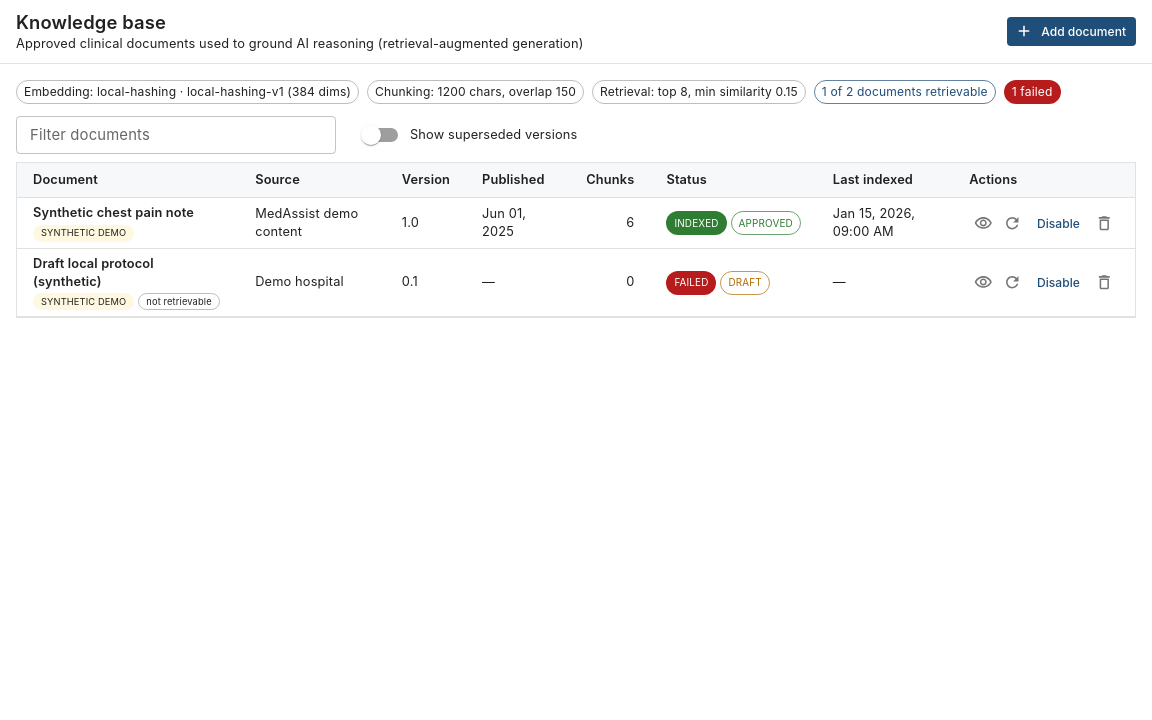
Test case: KnowledgeBasePage › disables and deletes documents through the admin API
Click the button "Disable" in the row of "Synthetic chest pain note" at (1058, 223), box [1026,208,1090,238]
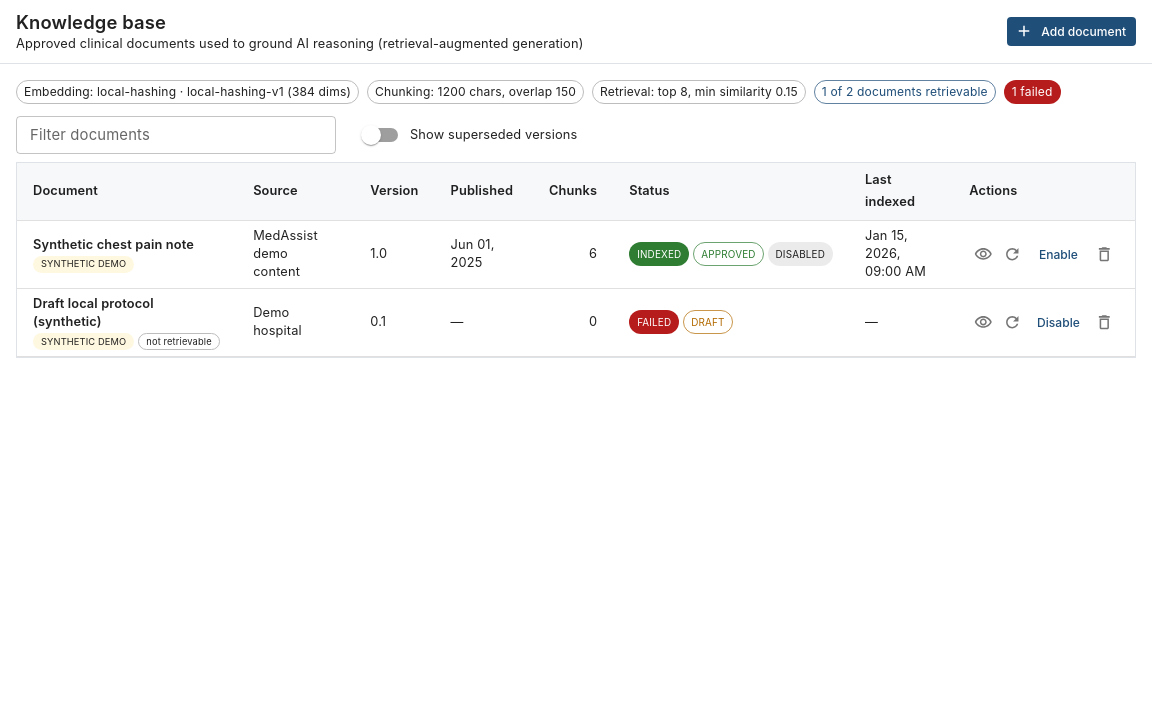
Click the button named "Delete Synthetic chest pain note" at (1105, 254), box [1090,240,1119,268]
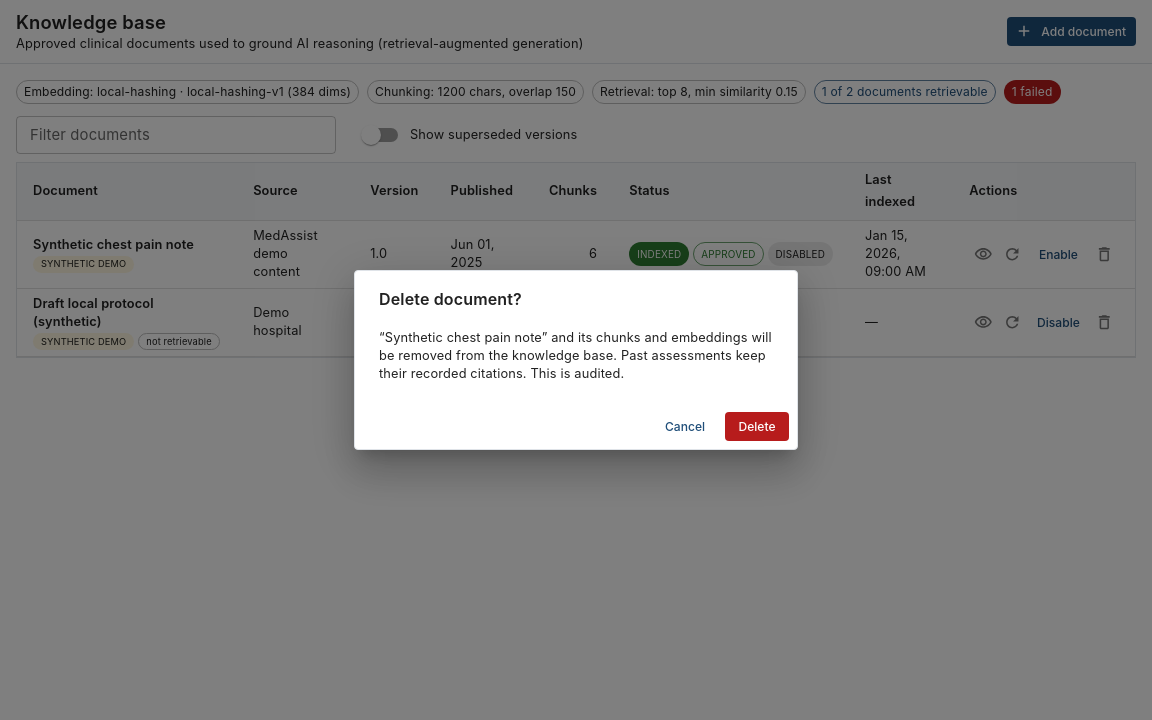
Click the button "Delete" at (757, 426), box [725,412,789,441]
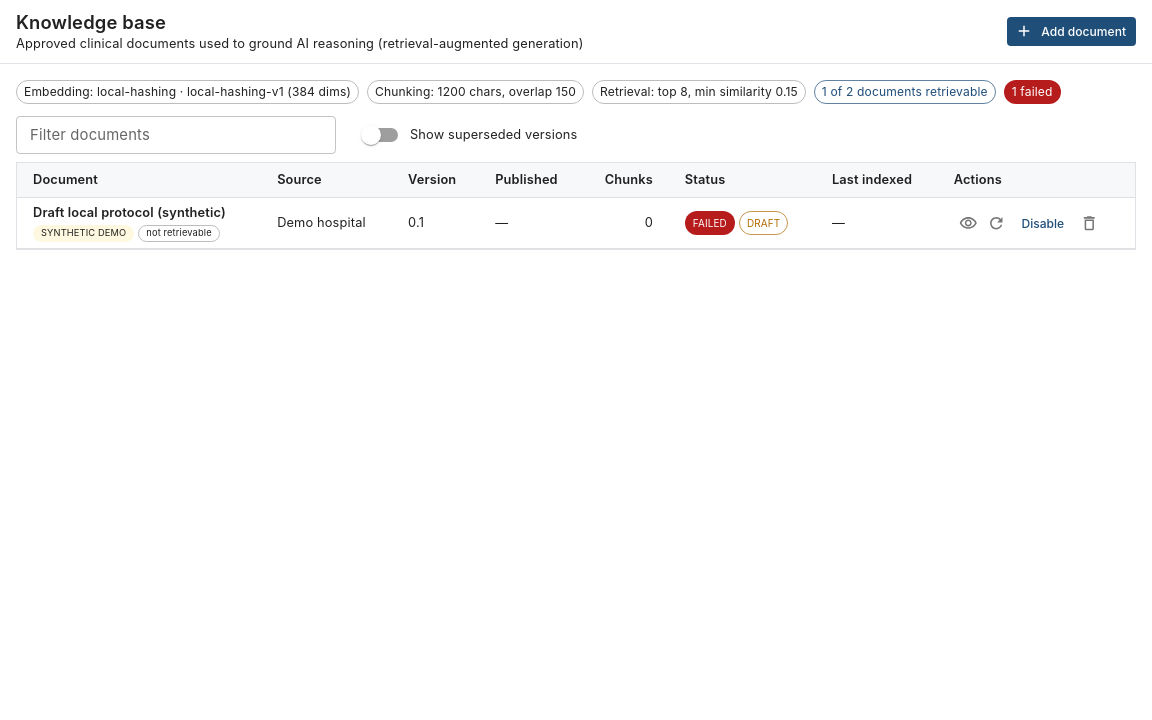
Check: the text "Synthetic chest pain note" is gone
